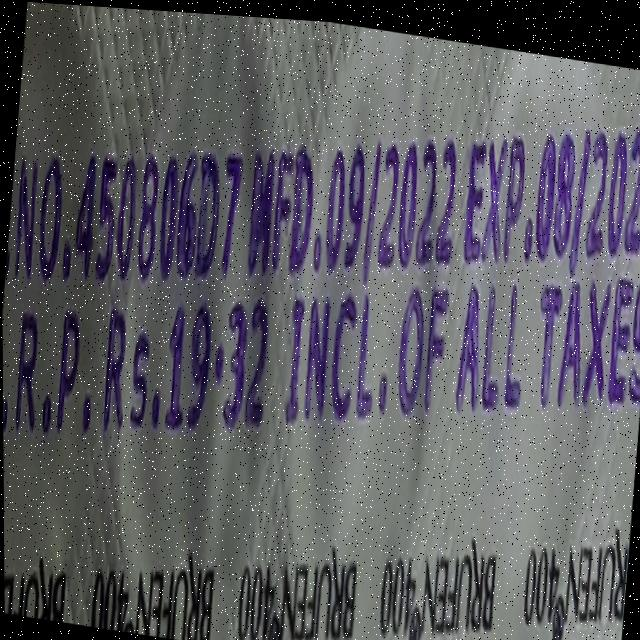sentence: (2, 225, 640, 442), (4, 115, 640, 285)
